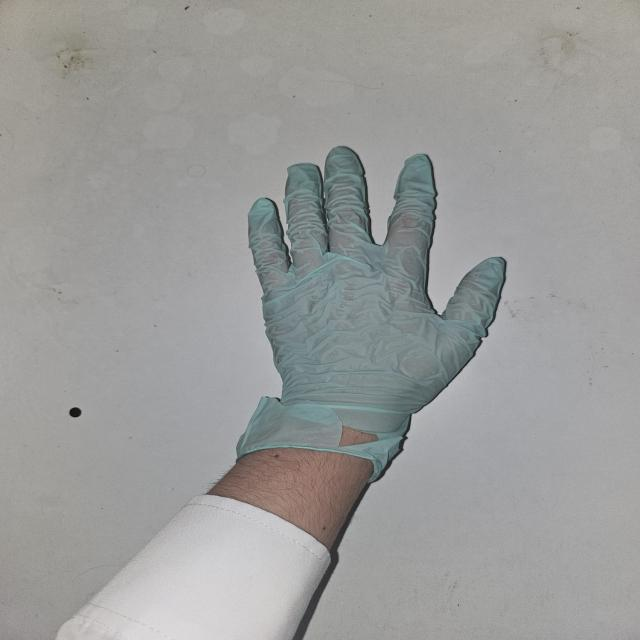gloves_damaged: (236, 146, 509, 490)
